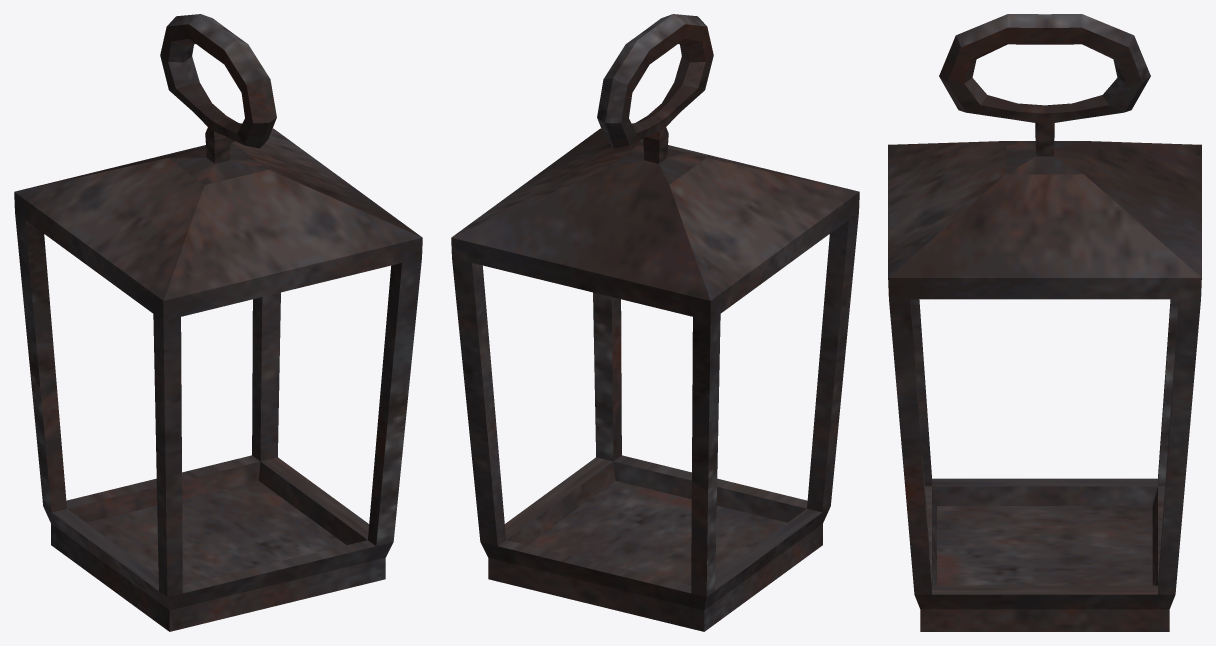
Rendered from lantern.fbx.
The picture shows the model from 3 angles, left to right: view 1: azimuth 30°, elevation 25°; view 2: azimuth 150°, elevation 25°; view 3: azimuth 270°, elevation 25°; orthographic projection. The views are drawn at different scales.
Visible parts, largest first — view 1: lantern; view 2: lantern; view 3: lantern.
Part boxes in pixels (box(x1,y1,x2,y2)): lantern: box(14, 14, 422, 631); lantern: box(451, 14, 859, 631); lantern: box(888, 14, 1201, 631).
Bounding box in the file's own units: 0.4488 × 0.4474 × 0.8851.
Materials: 1 (1 with a texture image).
